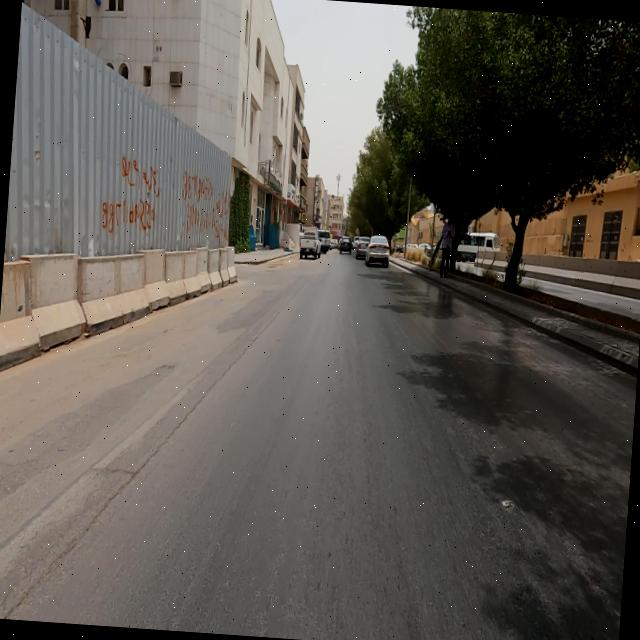Graffiti: (100, 156, 163, 236), (178, 173, 233, 248)
